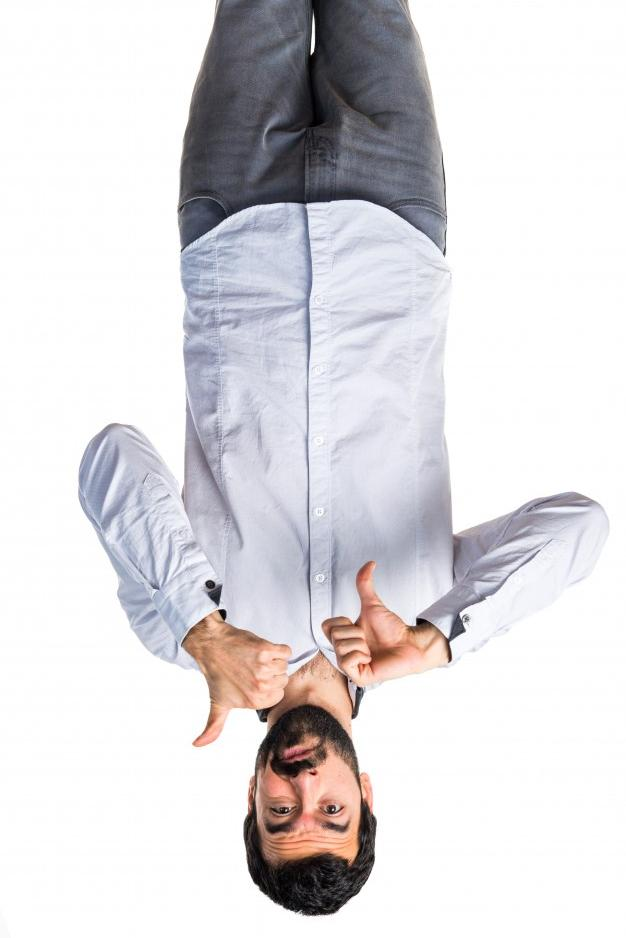thumbsdown: (192, 643, 292, 748)
